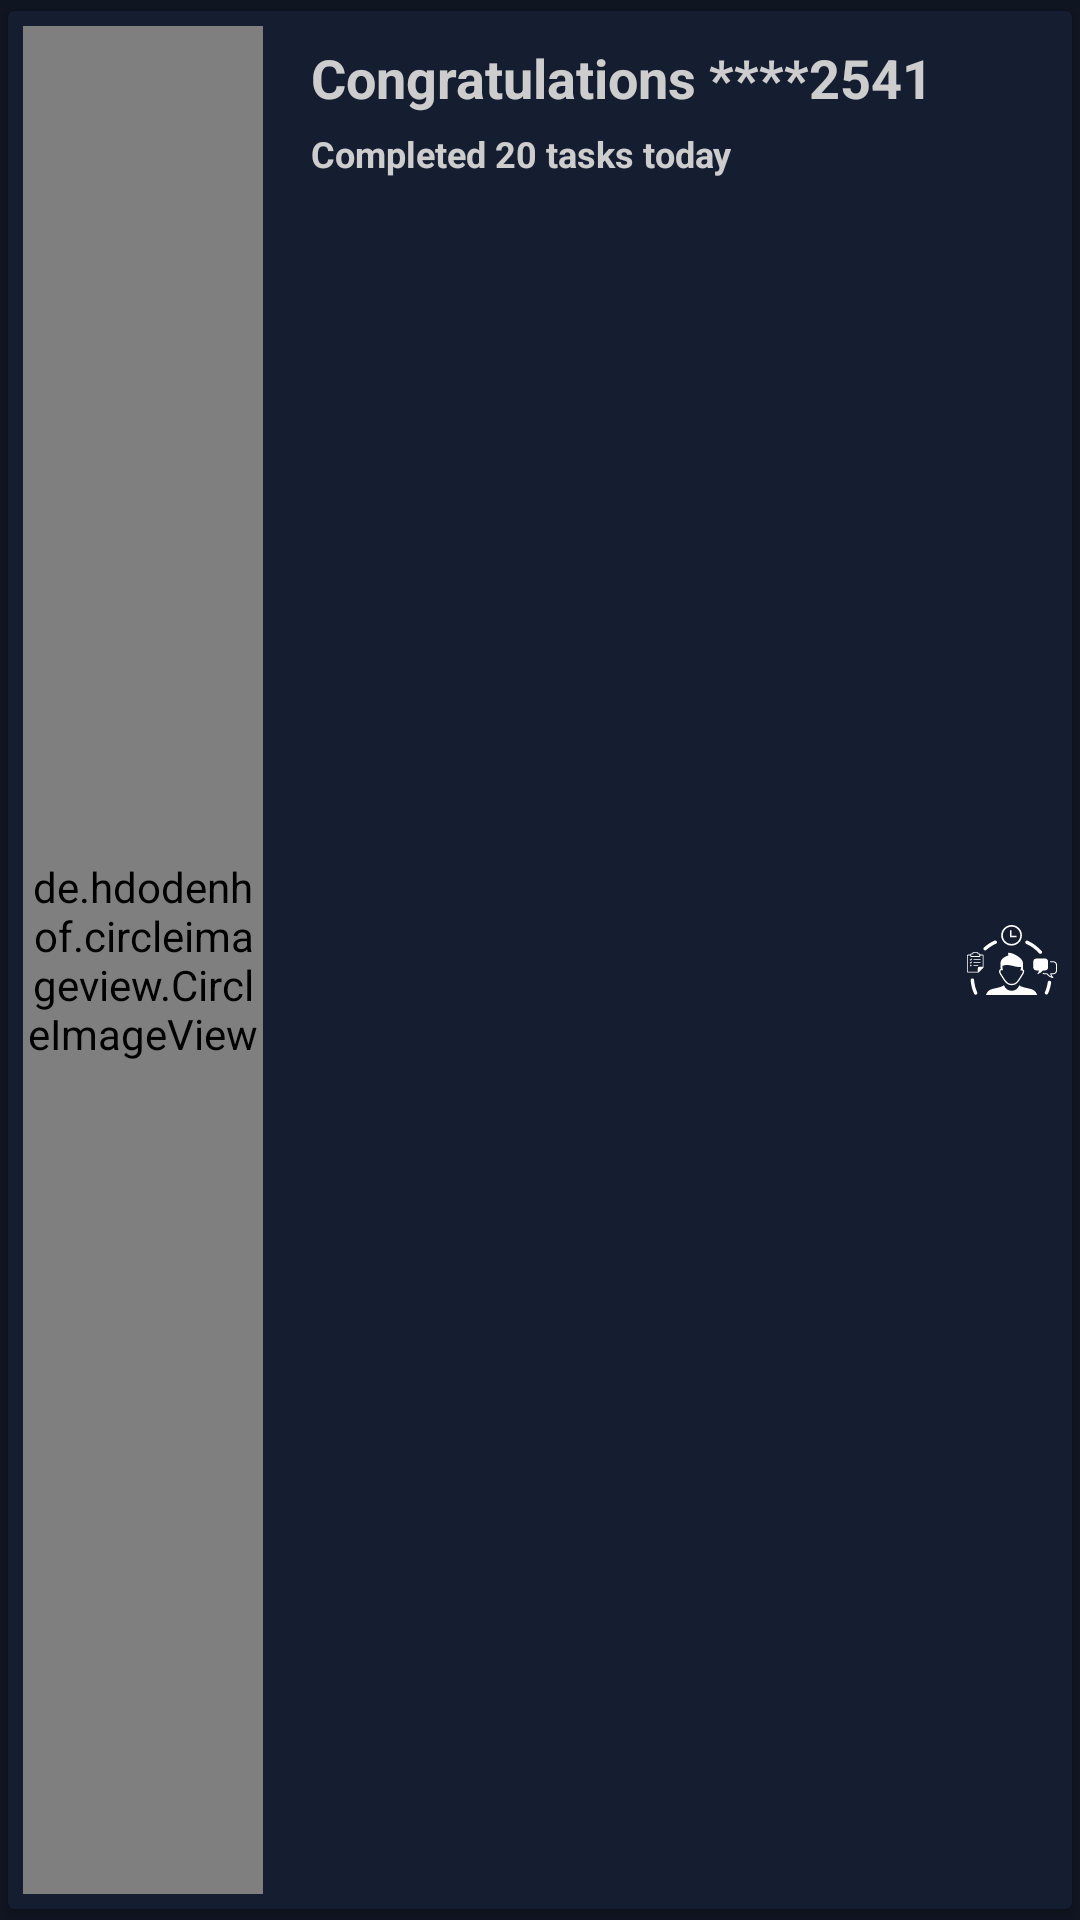

Icon click points for this 1080px x 1920px phone screenshot, format (x=x, y=y):
project manager: (x=1012, y=960)
